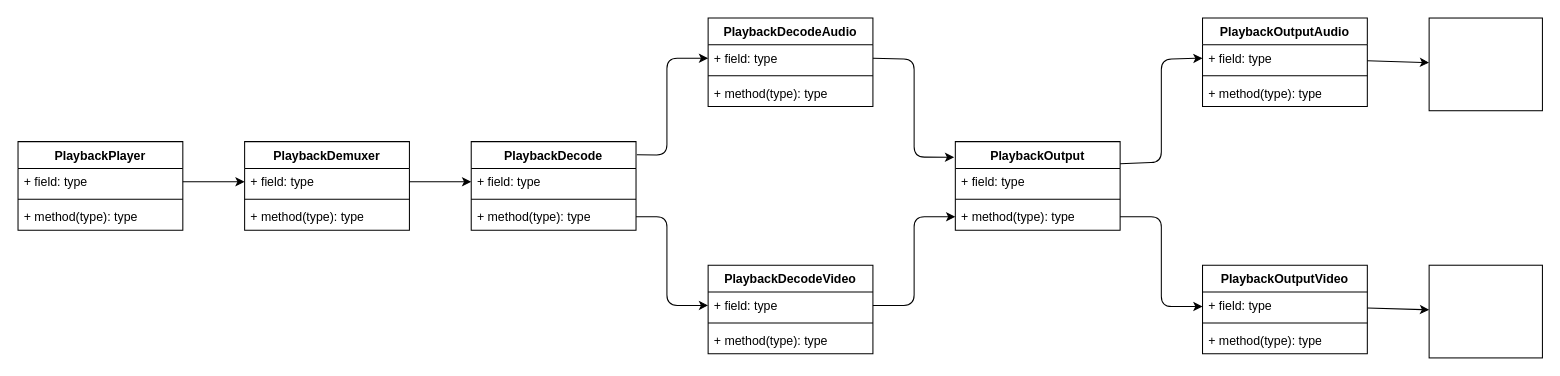
Image size: 1560x376. Some labels were removed from this diagram. Each missing label, with the centre of its shape:
"Screen" belongs at point (1485, 64).
"Speaker" belongs at point (1485, 311).
